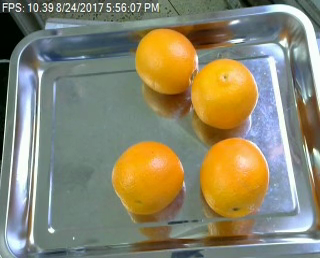Orange: (198, 135, 269, 218), (111, 140, 184, 214), (191, 57, 256, 127), (135, 27, 199, 93)
